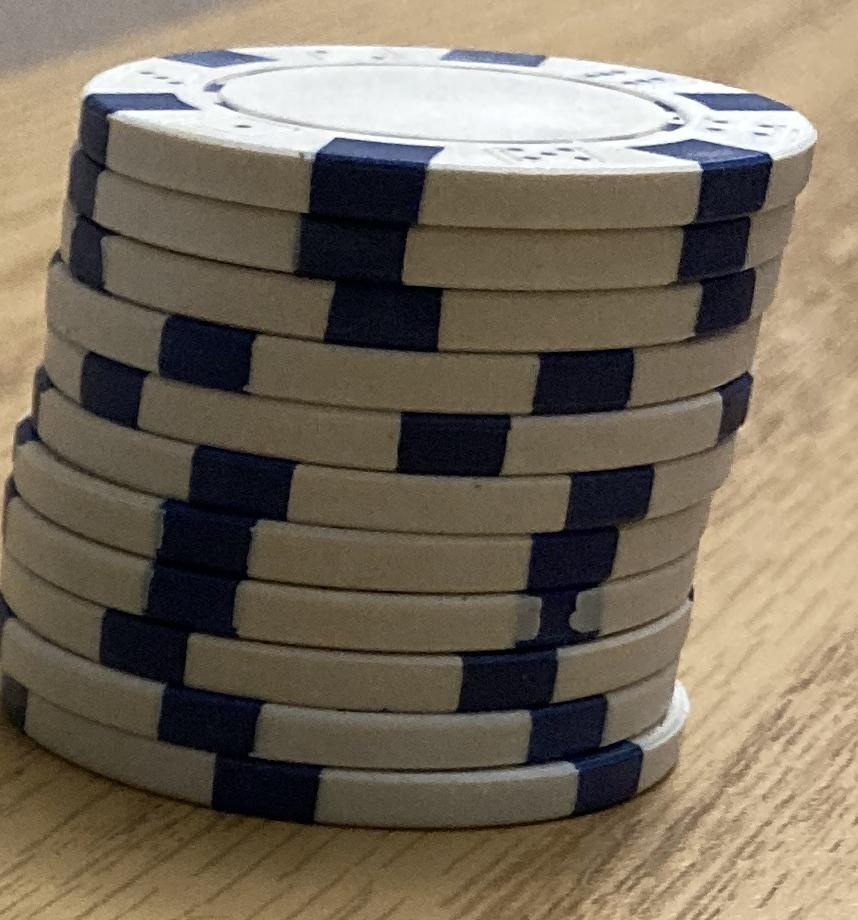Chip: (1, 1, 858, 920)
